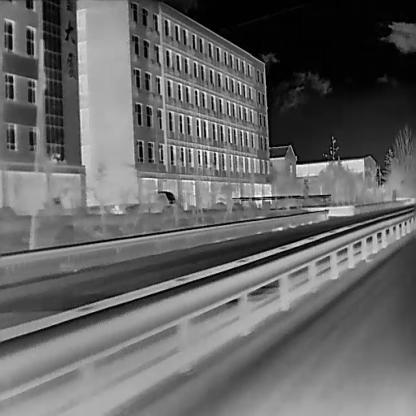car: (126, 189, 176, 214)
